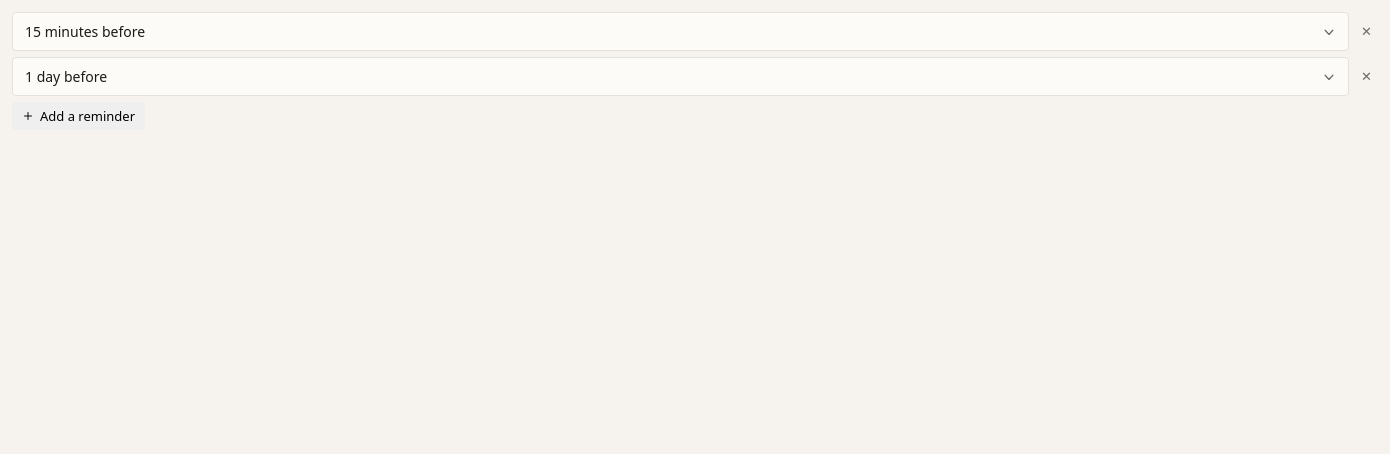
Test case: ReminderList › reads each reminder back as a sentence
expect the dropdown labelled "1 day before" is shown: met, box [12, 57, 1349, 96]
Click the dropdown labelled "15 minutes before" at (85, 32), box [12, 12, 1349, 51]
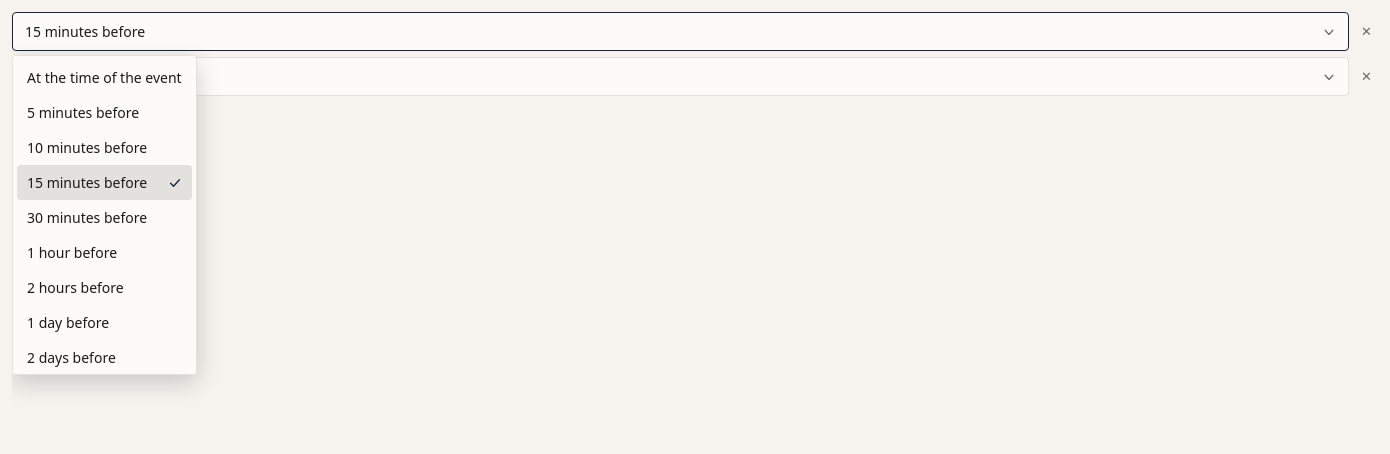
expect the option "15 minutes before" is shown: met, box [17, 165, 192, 200]
Click the dropdown labelled "15 minutes before" at (85, 32), box [12, 12, 1349, 51]
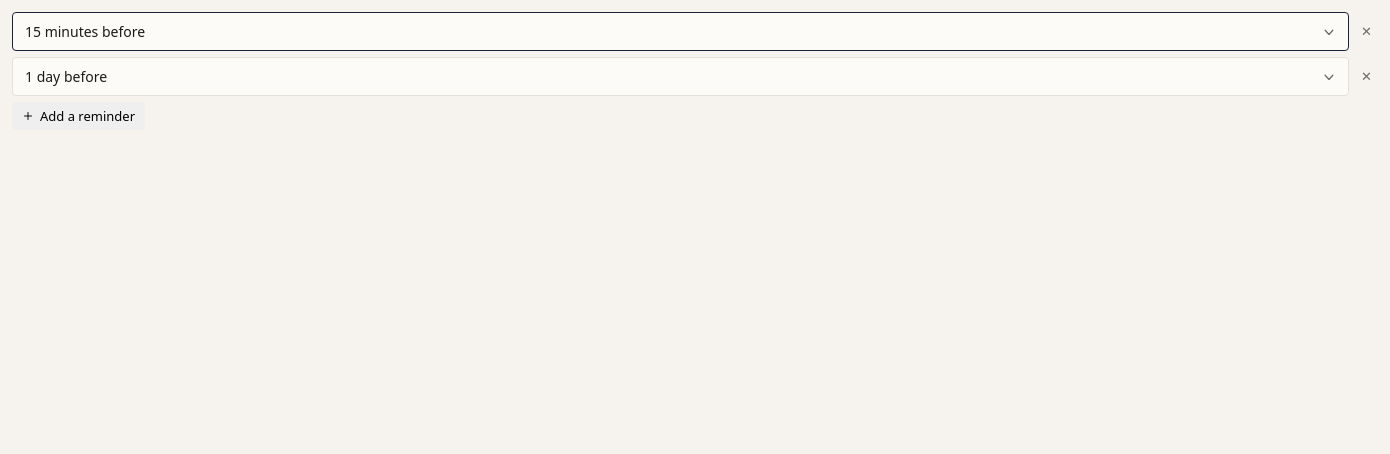
Click the dropdown labelled "1 day before" at (66, 76), box [12, 57, 1349, 96]
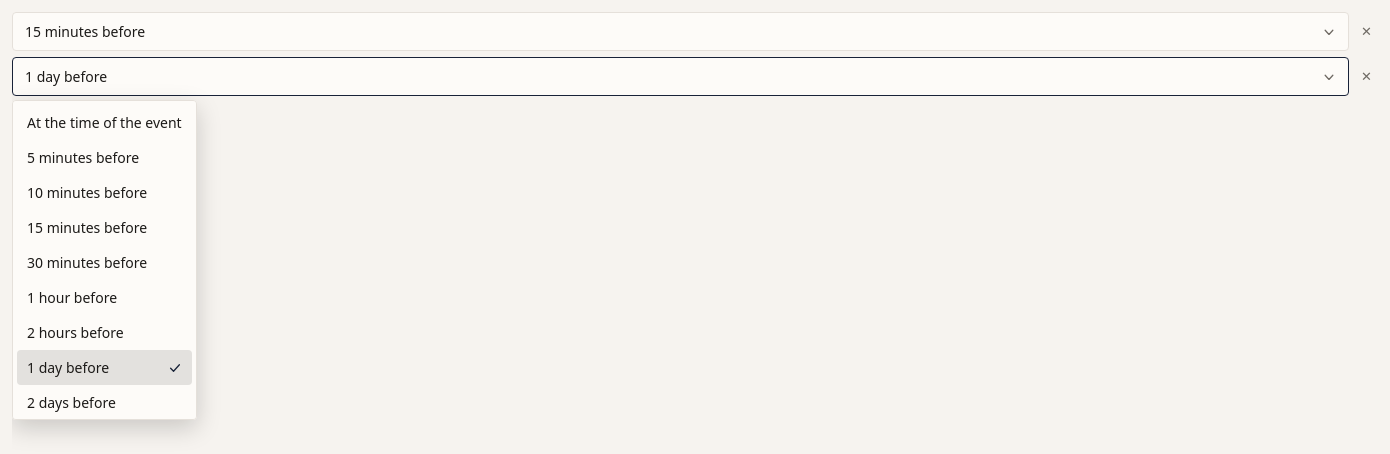
expect the option "1 day before" is shown: met, box [17, 350, 192, 385]
